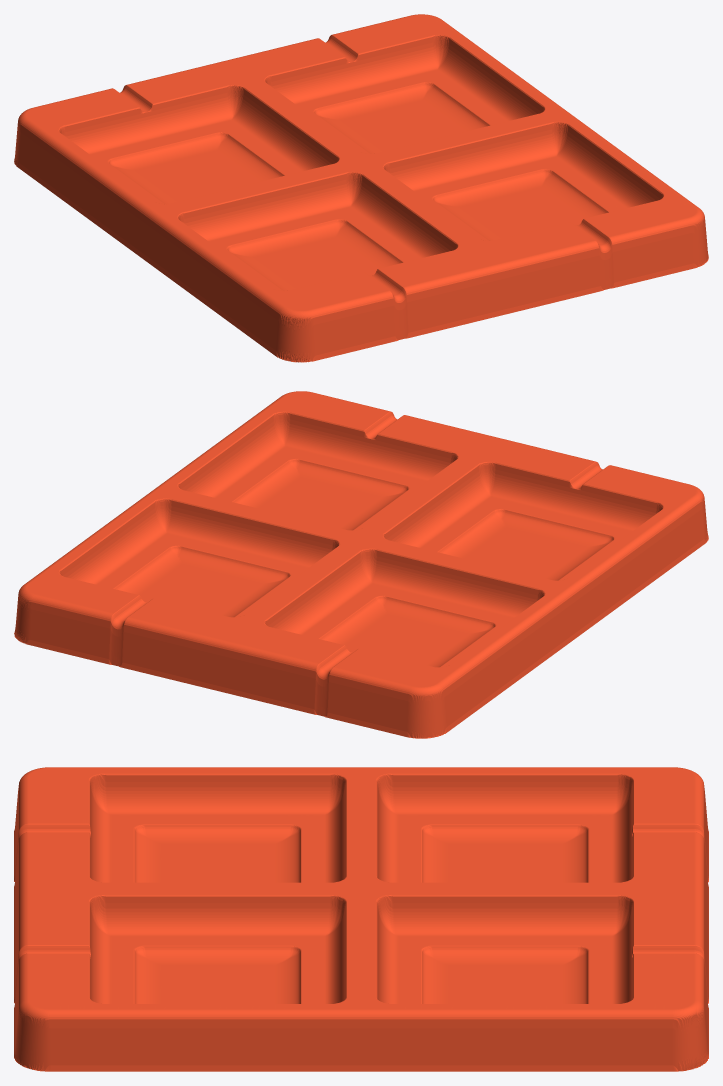
Rendered from mold.glb.
The picture shows the model from 3 angles, top to bottom: view 1: azimuth 30°, elevation 25°; view 2: azimuth 150°, elevation 25°; view 3: azimuth 270°, elevation 25°; orthographic projection. The views are drawn at different scales.
Parts seen in each view (by area): view 1: geometry_0; view 2: geometry_0; view 3: geometry_0.
Boxes of the visible parts, <box> form: geometry_0: <box>14,14,708,362</box>; geometry_0: <box>14,391,708,738</box>; geometry_0: <box>14,767,708,1071</box>.
Bounding box in the file's own units: 0.1497 × 0.0155 × 0.1735.
